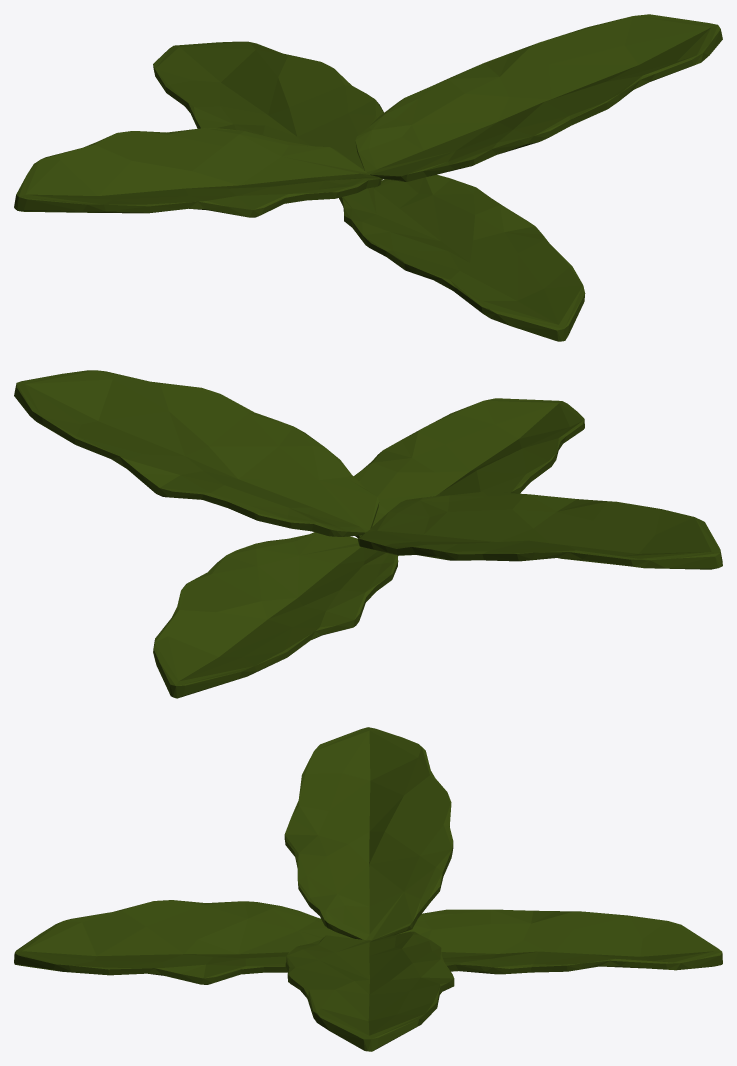
The picture shows the model from 3 angles, top to bottom: view 1: azimuth 30°, elevation 25°; view 2: azimuth 150°, elevation 25°; view 3: azimuth 270°, elevation 25°; orthographic projection. The views are drawn at different scales.
Parts seen in each view (by area): view 1: Circle.004, Circle.003, Circle.002, Circle.001; view 2: Circle.004, Circle.001, Circle.003, Circle.002; view 3: Circle.003, Circle.002, Circle.001, Circle.004.
Part boxes in pixels (x1,y1,x2,y2): Circle.004: [355, 14, 722, 181]; Circle.003: [14, 128, 381, 217]; Circle.002: [339, 174, 585, 341]; Circle.001: [153, 41, 383, 180]; Circle.004: [14, 370, 379, 536]; Circle.001: [153, 532, 398, 698]; Circle.003: [357, 491, 722, 569]; Circle.002: [353, 398, 584, 538]; Circle.003: [284, 727, 453, 940]; Circle.002: [14, 900, 353, 984]; Circle.001: [397, 909, 722, 974]; Circle.004: [285, 931, 454, 1051].
Bounding box in the file's own units: 0.937 × 0.893 × 0.122.
